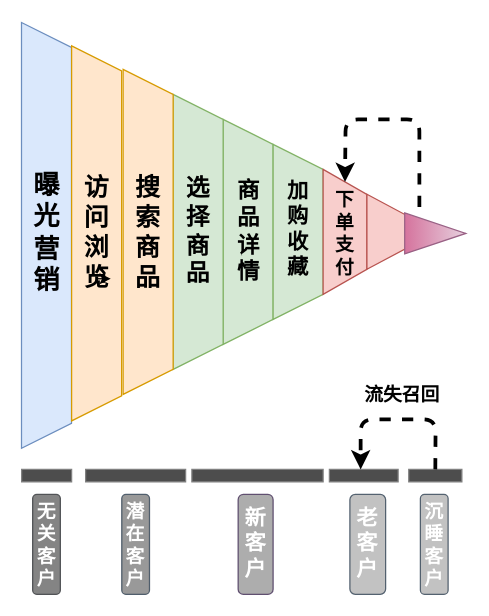
This 489x616 diagram has some shape labels left out. Each missing label, with the centre of its shape:
"复购" belongs at (390,231).
"流失" belongs at (435,233).
